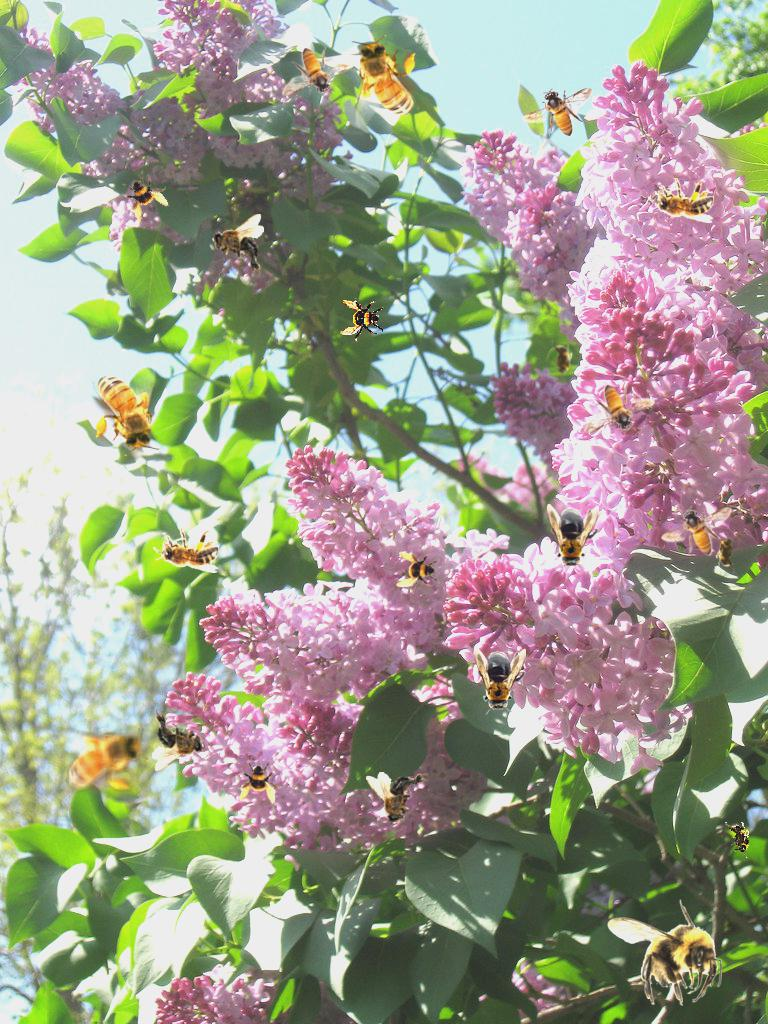Bee: (607, 899, 722, 1006), (92, 363, 160, 456), (55, 726, 148, 794), (351, 35, 419, 128), (114, 164, 176, 226), (366, 769, 431, 827), (661, 506, 732, 556), (522, 87, 593, 137), (584, 384, 655, 434), (282, 47, 353, 97), (547, 504, 599, 572), (474, 647, 526, 715), (211, 214, 264, 276), (152, 709, 205, 771), (153, 528, 219, 573), (648, 178, 714, 223), (340, 298, 384, 342), (396, 550, 440, 594), (238, 760, 282, 804), (724, 817, 756, 861), (713, 530, 741, 574), (551, 340, 573, 380)
